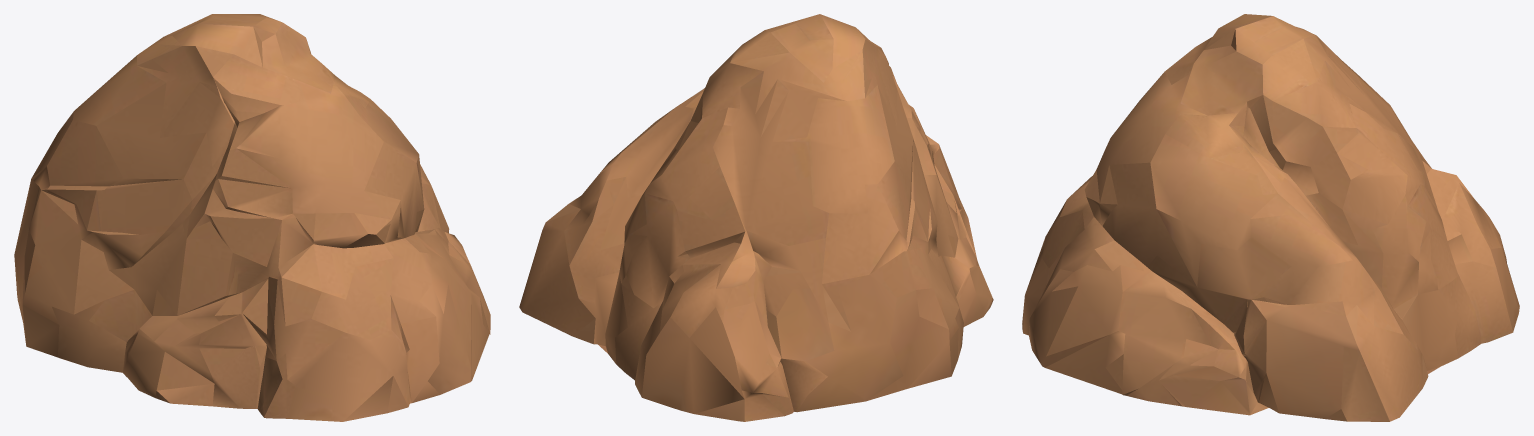
File: rock-large.glb
The picture shows the model from 3 angles, left to right: view 1: azimuth 30°, elevation 25°; view 2: azimuth 150°, elevation 25°; view 3: azimuth 270°, elevation 25°; orthographic projection. The views are drawn at different scales.
Size of the model in its own units: 1.71 by 1.2 by 1.89.
1 material, 1 textured.
